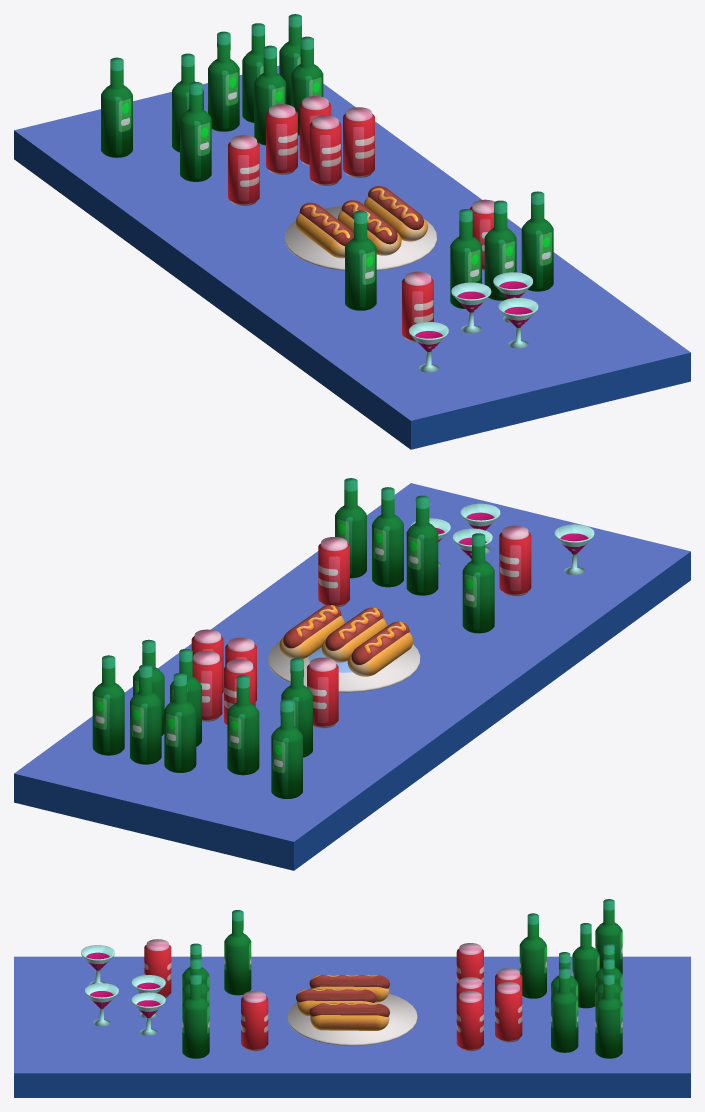
Rendered from All Objects4_bottles_glass.fbx.
3 views of the same model, one above another, from view 1: azimuth 30°, elevation 25°; view 2: azimuth 150°, elevation 25°; view 3: azimuth 270°, elevation 25° (orthographic). The views are drawn at different scales.
Parts seen in each view (by area): view 1: Cube.026; view 2: Cube.026; view 3: Cube.026.
Boxes of the visible parts, x1,y1,x2,y2 form: Cube.026: (14, 14, 690, 449); Cube.026: (14, 478, 690, 870); Cube.026: (14, 899, 690, 1097).
Size of the model in its own units: 2024 by 832 by 4970.
Materials: 3 (3 with a texture image).
